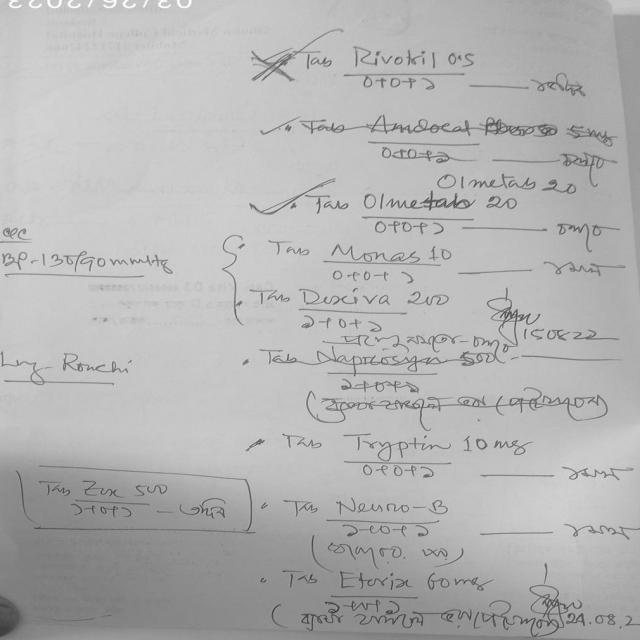medicine: (326, 493, 454, 522), (346, 429, 454, 462), (342, 43, 440, 75), (322, 243, 426, 266), (334, 569, 414, 596), (349, 190, 421, 214)
